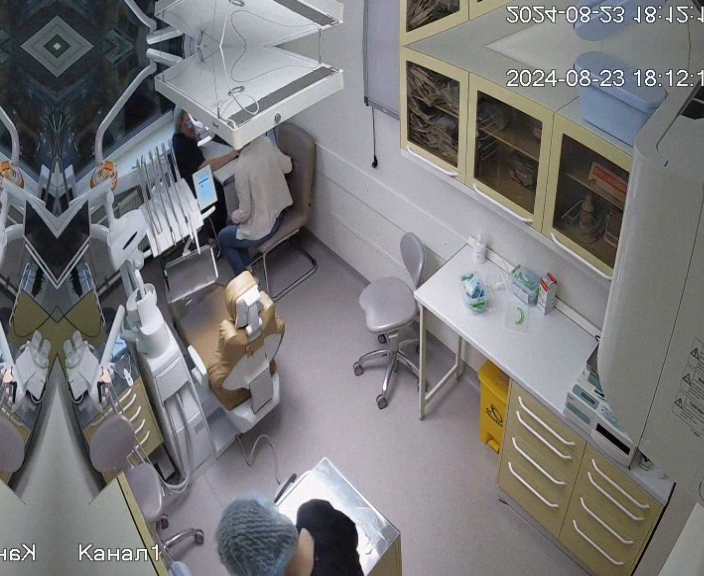Empty: (165, 274, 284, 430)
